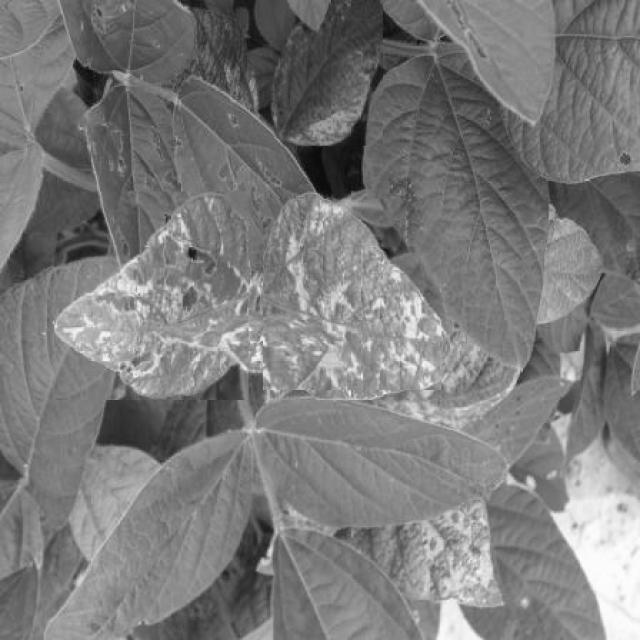Mosaic Virus: (54, 192, 249, 400), (263, 199, 441, 391), (274, 0, 383, 146)
